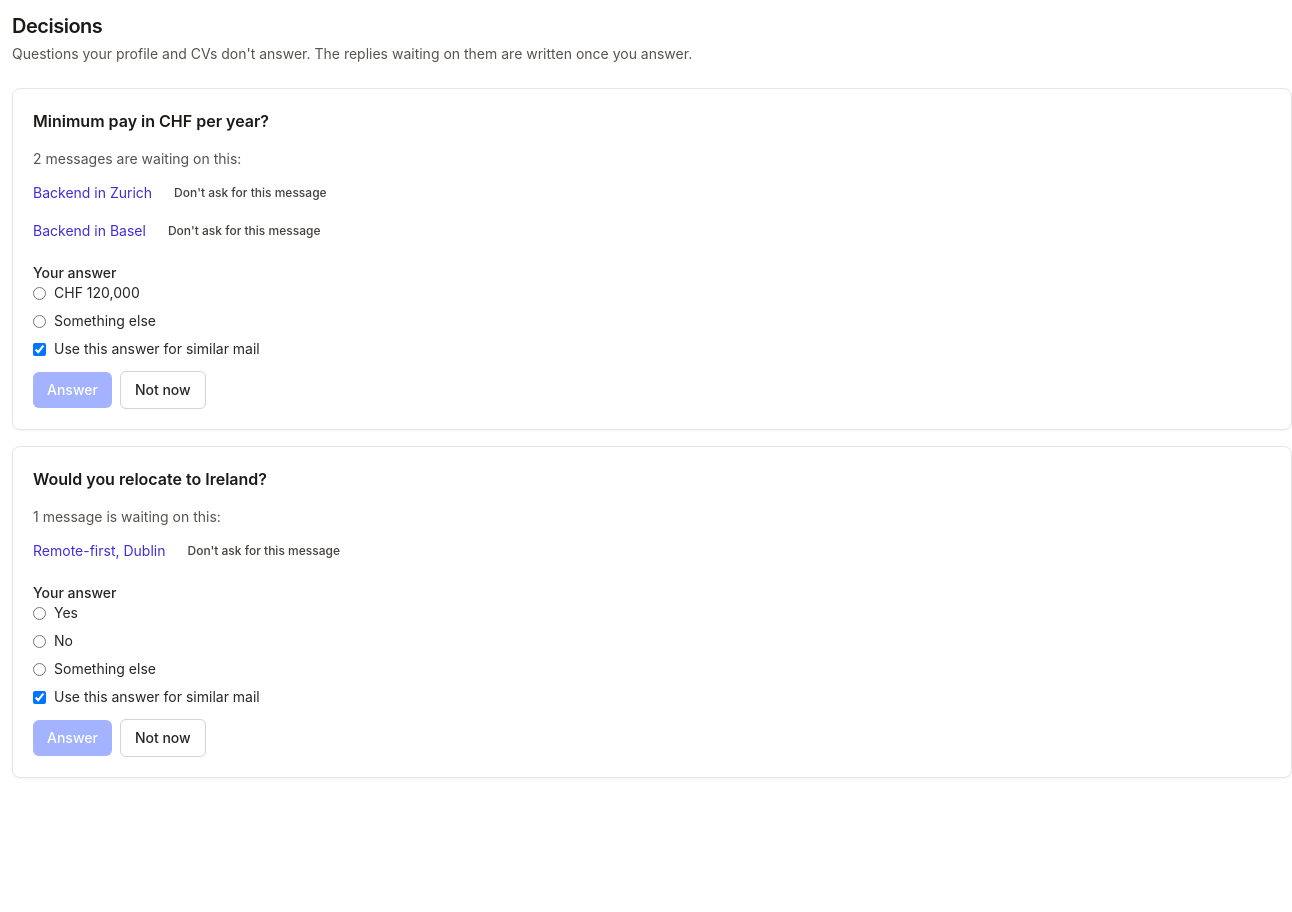
it: the Decisions page (F7.2) › answers with a choice, or with free text
Expected: the heading "Minimum pay in CHF per year?" is shown, [33,111,269,131]
Expected: the button "Answer" below "CHF 120,000" is disabled, [33,372,112,408]
Click the radio button labelled "CHF 120,000" at (40, 293), box [33,286,46,300]
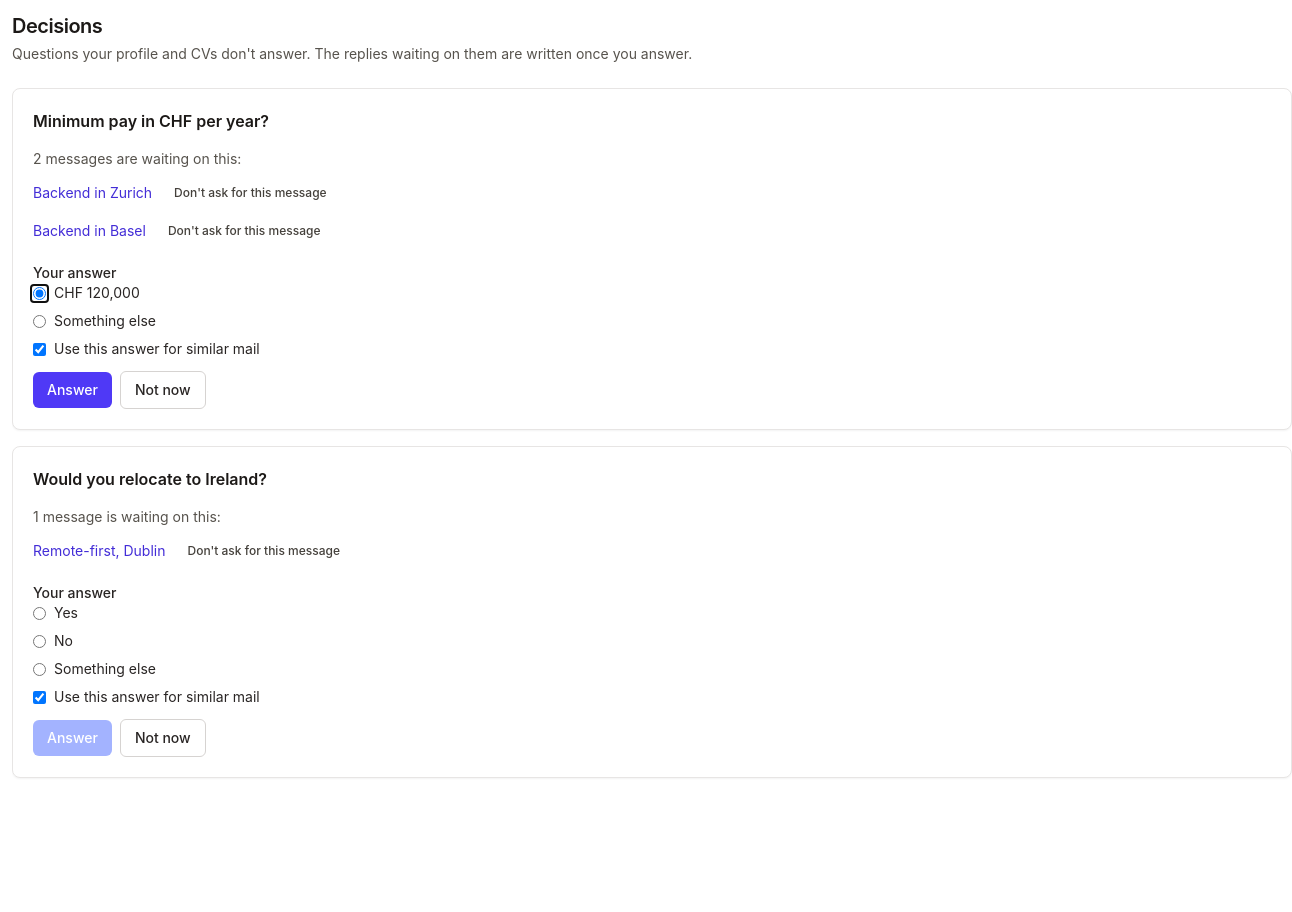
Click the button "Answer" below "CHF 120,000" at (72, 390), box [33,372,112,408]
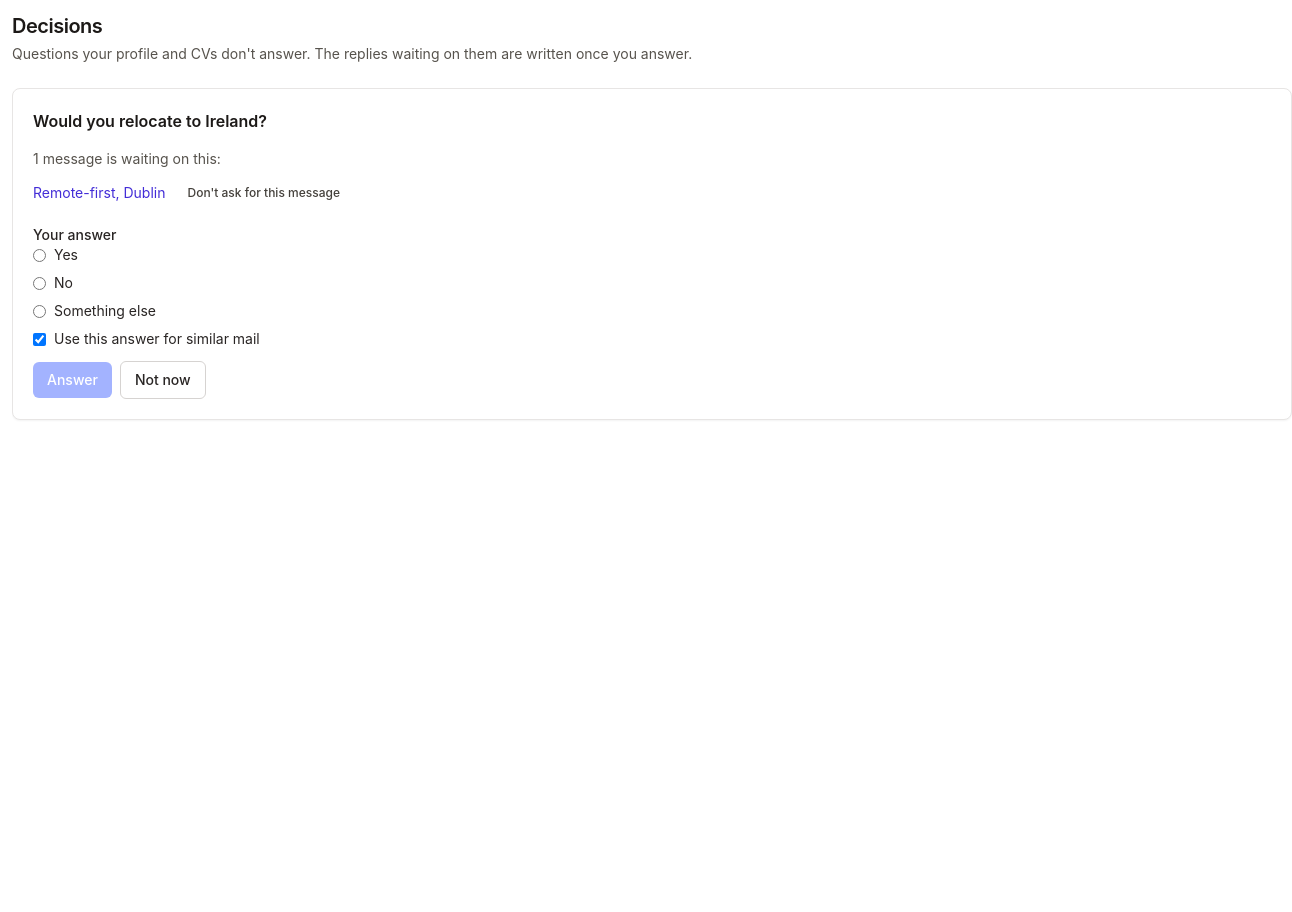
Expected: the heading "Minimum pay in CHF per year?" is gone
Click the radio button labelled "Something else" at (40, 311), box [33,304,46,318]
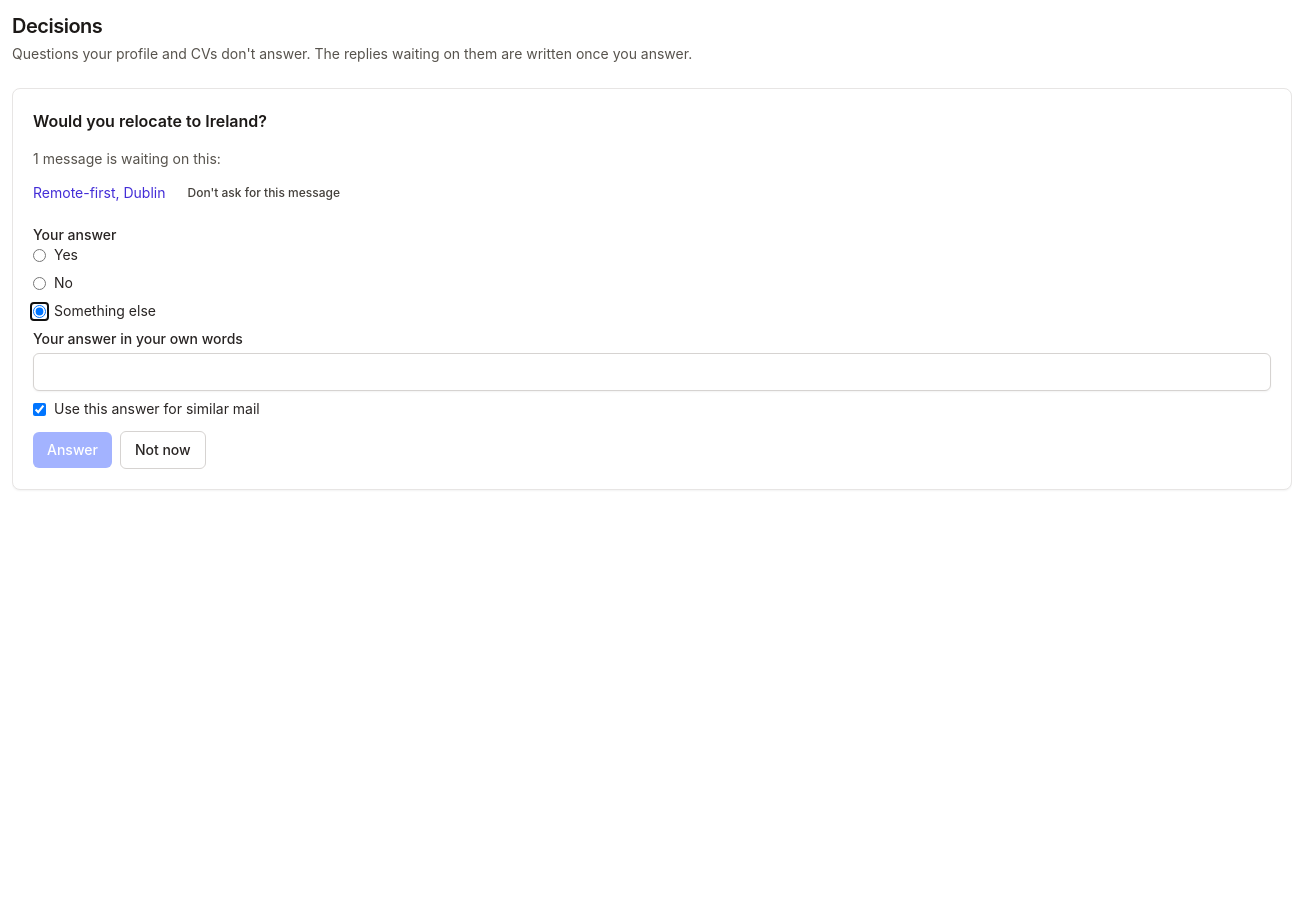
Type "Maybe in 2027" into the field labelled "Your answer in your own words" at (652, 372), box [33,353,1271,391]
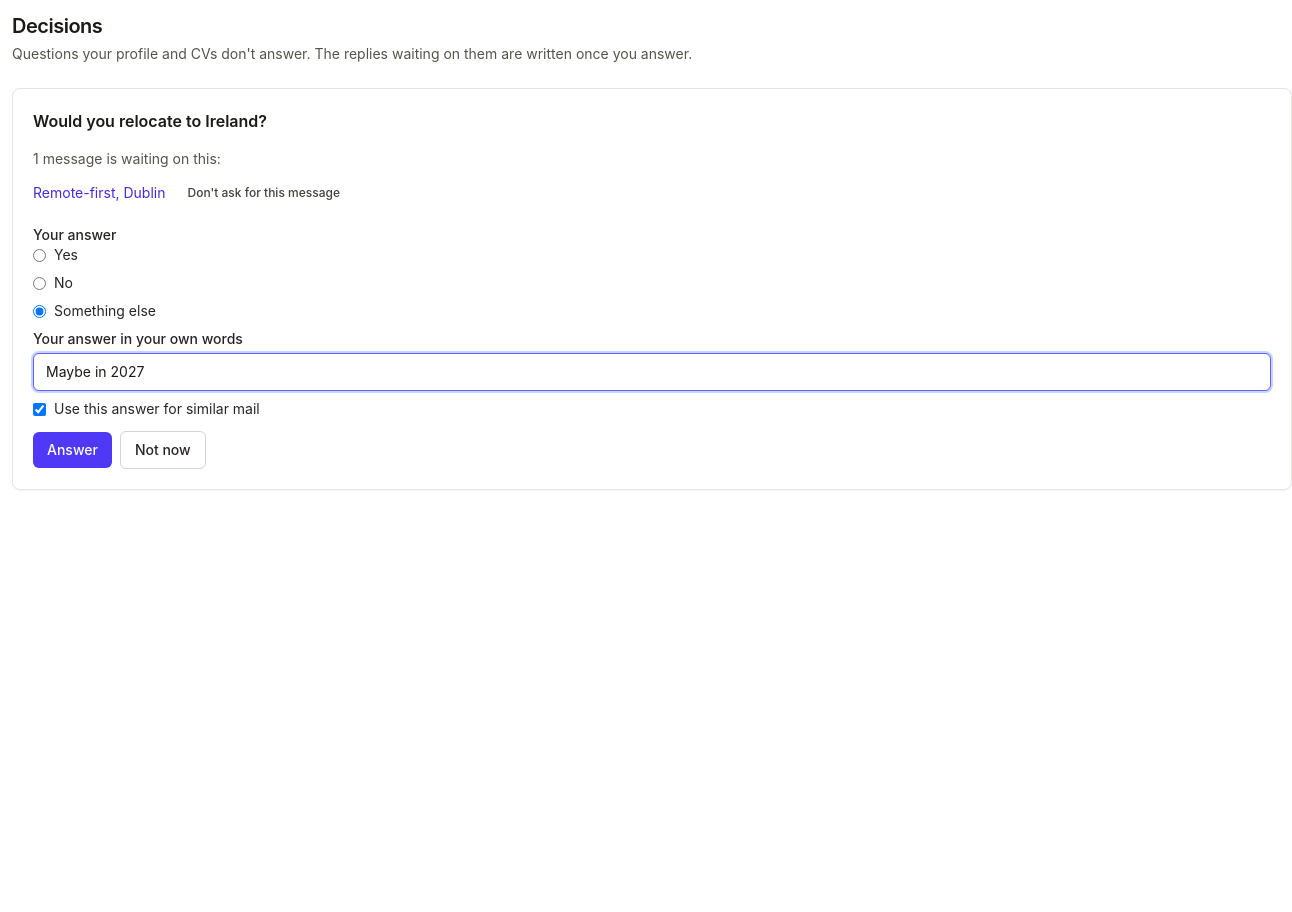
Click the checkbox labelled "Use this answer for similar mail" at (40, 409), box [33,402,46,416]
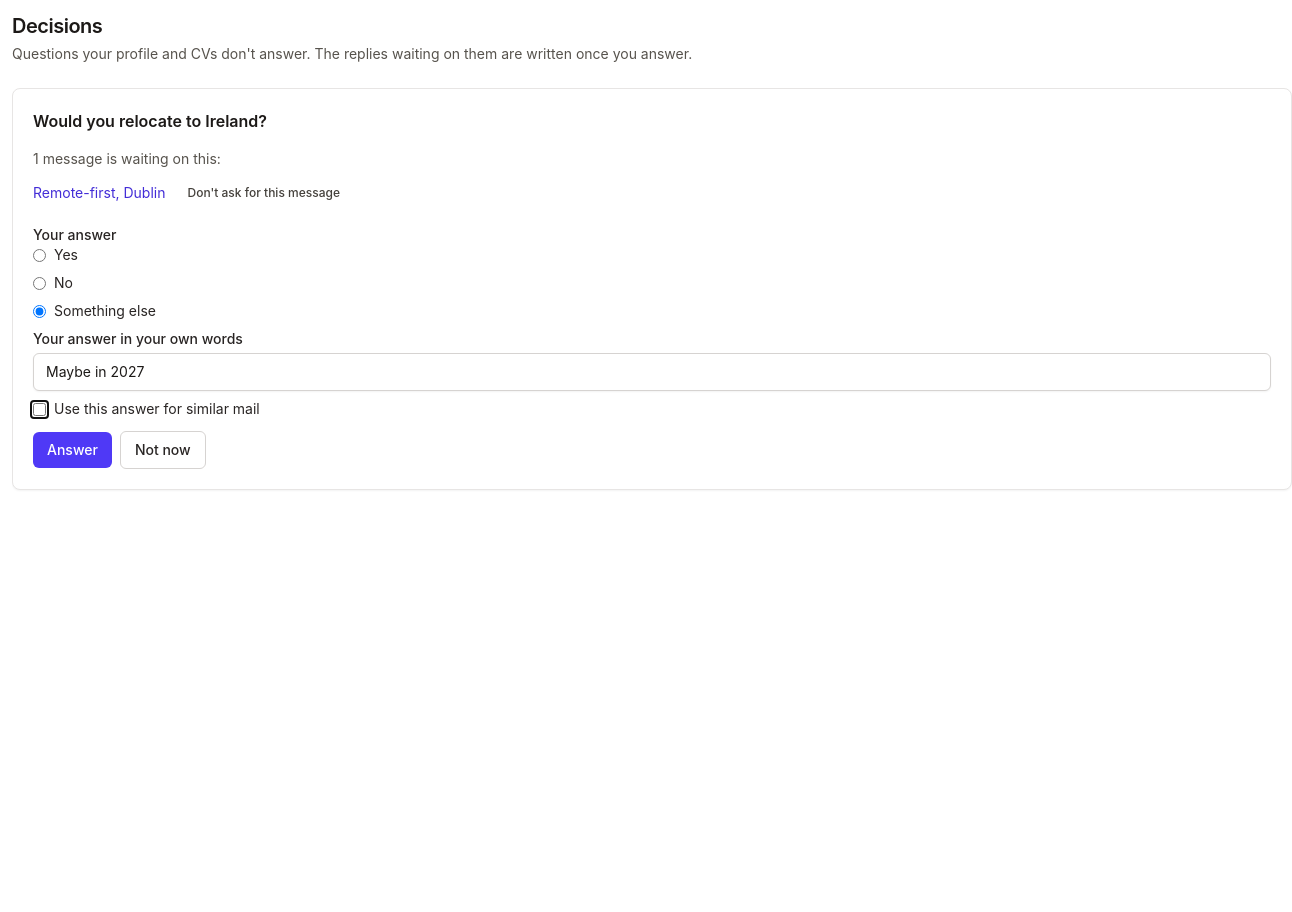
Click the button "Answer" at (72, 450), box [33,432,112,468]
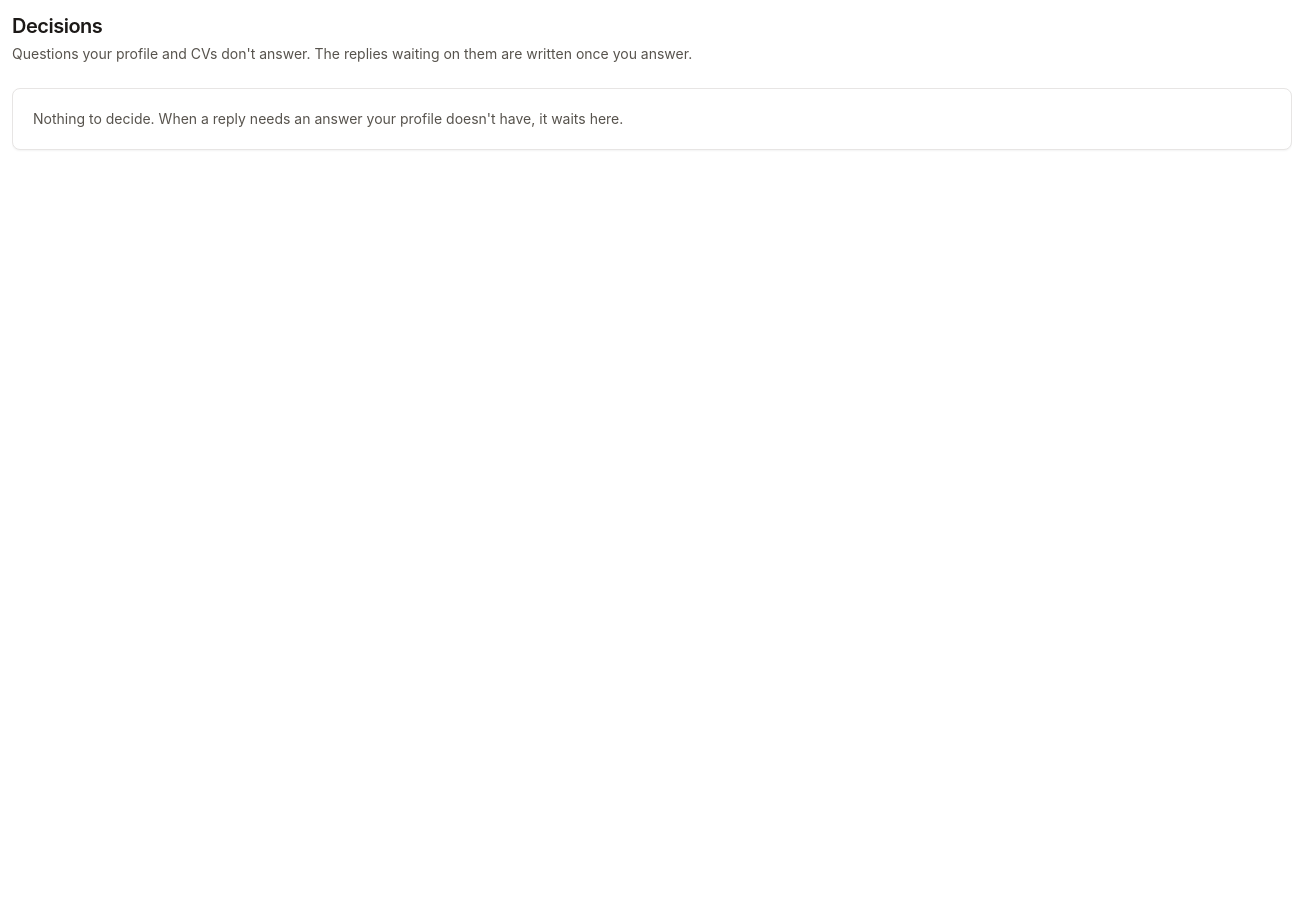
Expected: the text "Nothing to decide" is shown, [33,110,623,127]
